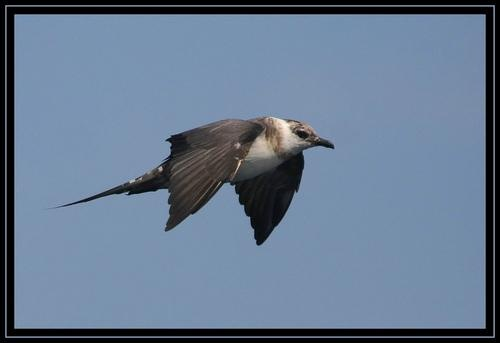bird: (54, 111, 338, 230)
